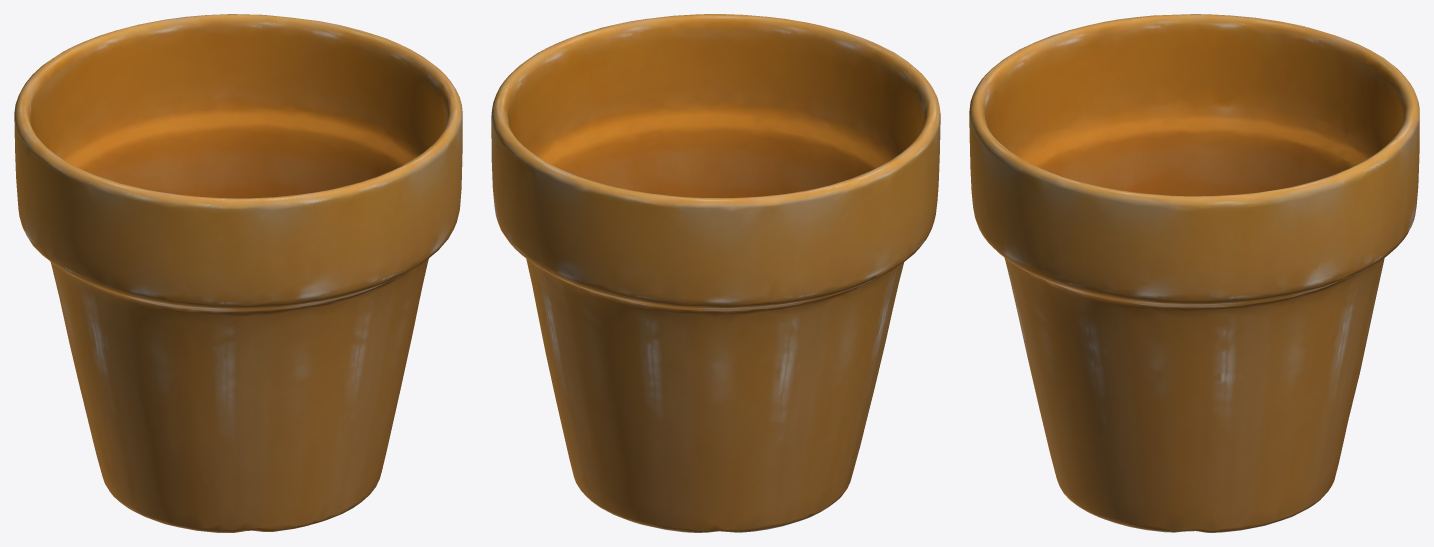
File: Cole_Hardware_Electric_Pot_Cabana_55.glb
3 renders of one model, left to right at view 1: azimuth 30°, elevation 25°; view 2: azimuth 150°, elevation 25°; view 3: azimuth 270°, elevation 25°, orthographic.
Visible parts, largest first — view 1: Cole_Hardware_Electric_Pot_Cabana_55; view 2: Cole_Hardware_Electric_Pot_Cabana_55; view 3: Cole_Hardware_Electric_Pot_Cabana_55.
Part boxes in pixels (left/top/right/bottom): Cole_Hardware_Electric_Pot_Cabana_55: left=14, top=14, right=462, bottom=532; Cole_Hardware_Electric_Pot_Cabana_55: left=491, top=14, right=940, bottom=532; Cole_Hardware_Electric_Pot_Cabana_55: left=969, top=14, right=1419, bottom=532.
Size of the model in its own units: 0.1417 by 0.1301 by 0.1419.
1 material, 1 textured.
